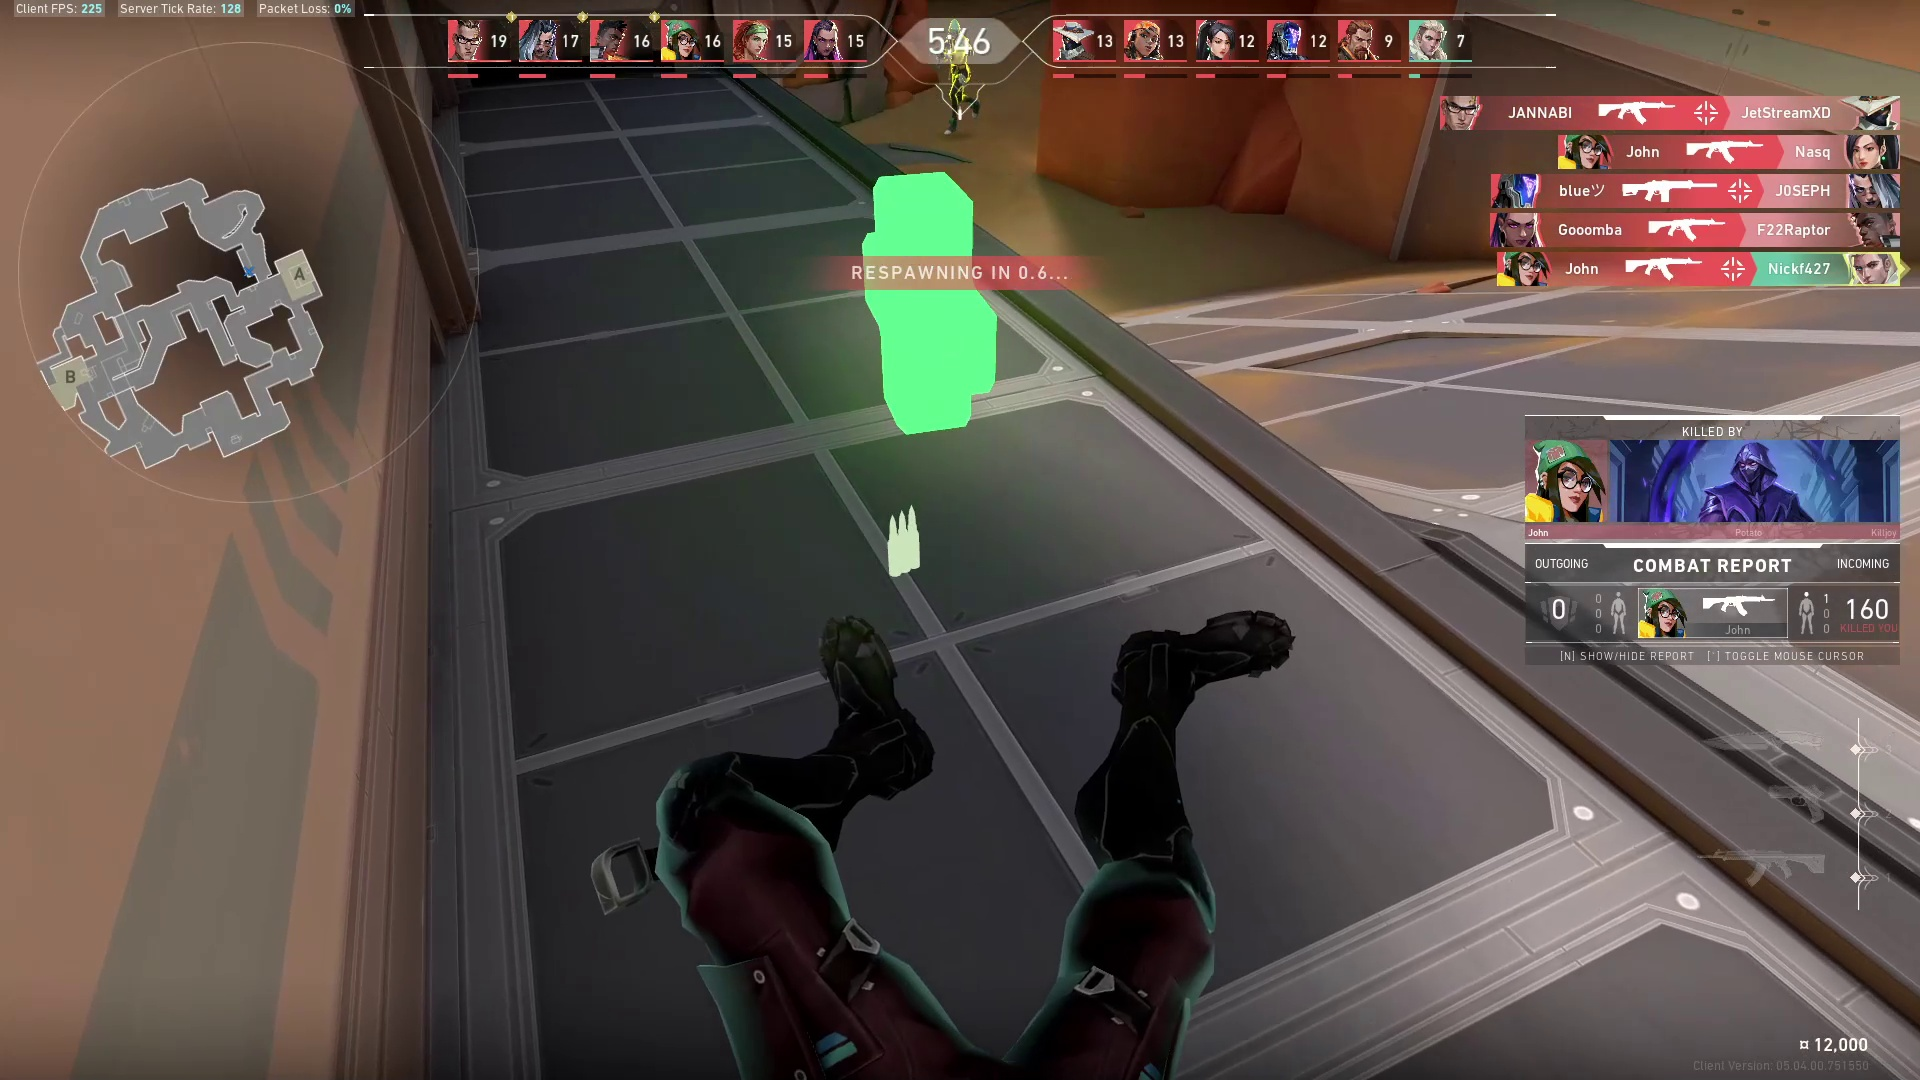enemy_gen: (938, 62, 985, 137)
